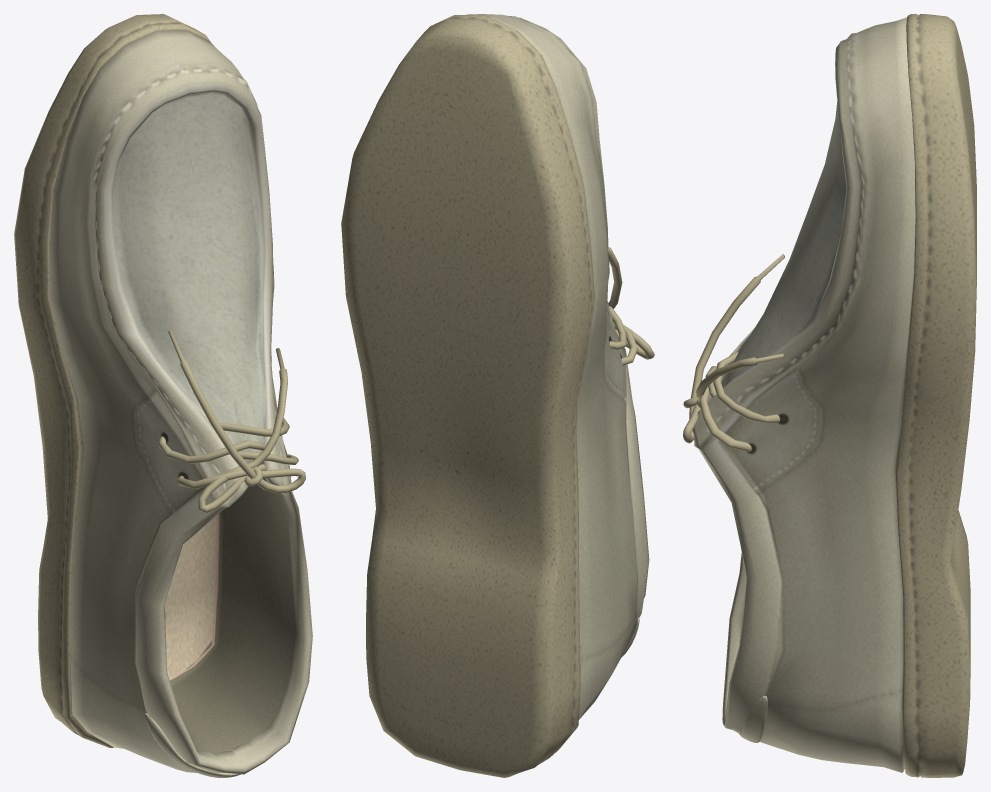
3 renders of one model, left to right at view 1: azimuth 30°, elevation 25°; view 2: azimuth 150°, elevation 25°; view 3: azimuth 270°, elevation 25°, orthographic. The views are drawn at different scales.
Parts seen in each view (by area): view 1: sapato, BézierCurve, sapato.001; view 2: sapato, BézierCurve; view 3: sapato, BézierCurve, sapato.001.
Part boxes in pixels (x1,y1,x2,y2): sapato: (14, 14, 312, 774); BézierCurve: (158, 330, 305, 512); sapato.001: (145, 713, 240, 777); sapato: (341, 14, 649, 777); BézierCurve: (608, 247, 654, 365); sapato: (692, 14, 976, 777); BézierCurve: (683, 254, 784, 451); sapato.001: (739, 696, 767, 742).
Bounding box in the file's own units: 0.4509 × 1.39 × 0.503.
Materials: 3 (2 with a texture image).
